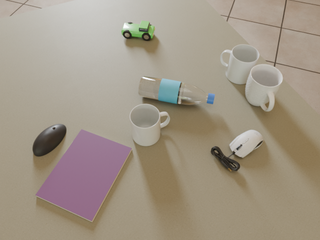book: (36, 129, 132, 222)
bottle: (139, 76, 215, 105)
cup: (245, 64, 283, 111), (130, 104, 170, 146), (220, 45, 259, 84)
mouse: (33, 124, 66, 156), (230, 130, 263, 158)
toy_car: (121, 21, 155, 41)
